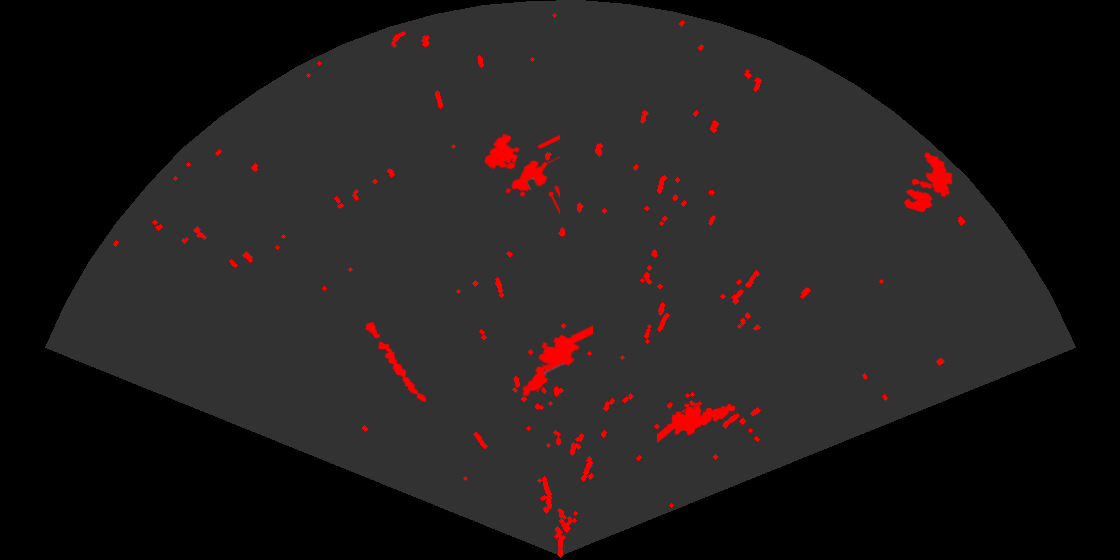AUV: (922, 150, 954, 199)
ball: (902, 177, 935, 214)
cage: (483, 132, 560, 216)
chain: (364, 320, 428, 404)
frogman: (521, 324, 593, 398), (657, 402, 737, 444)
